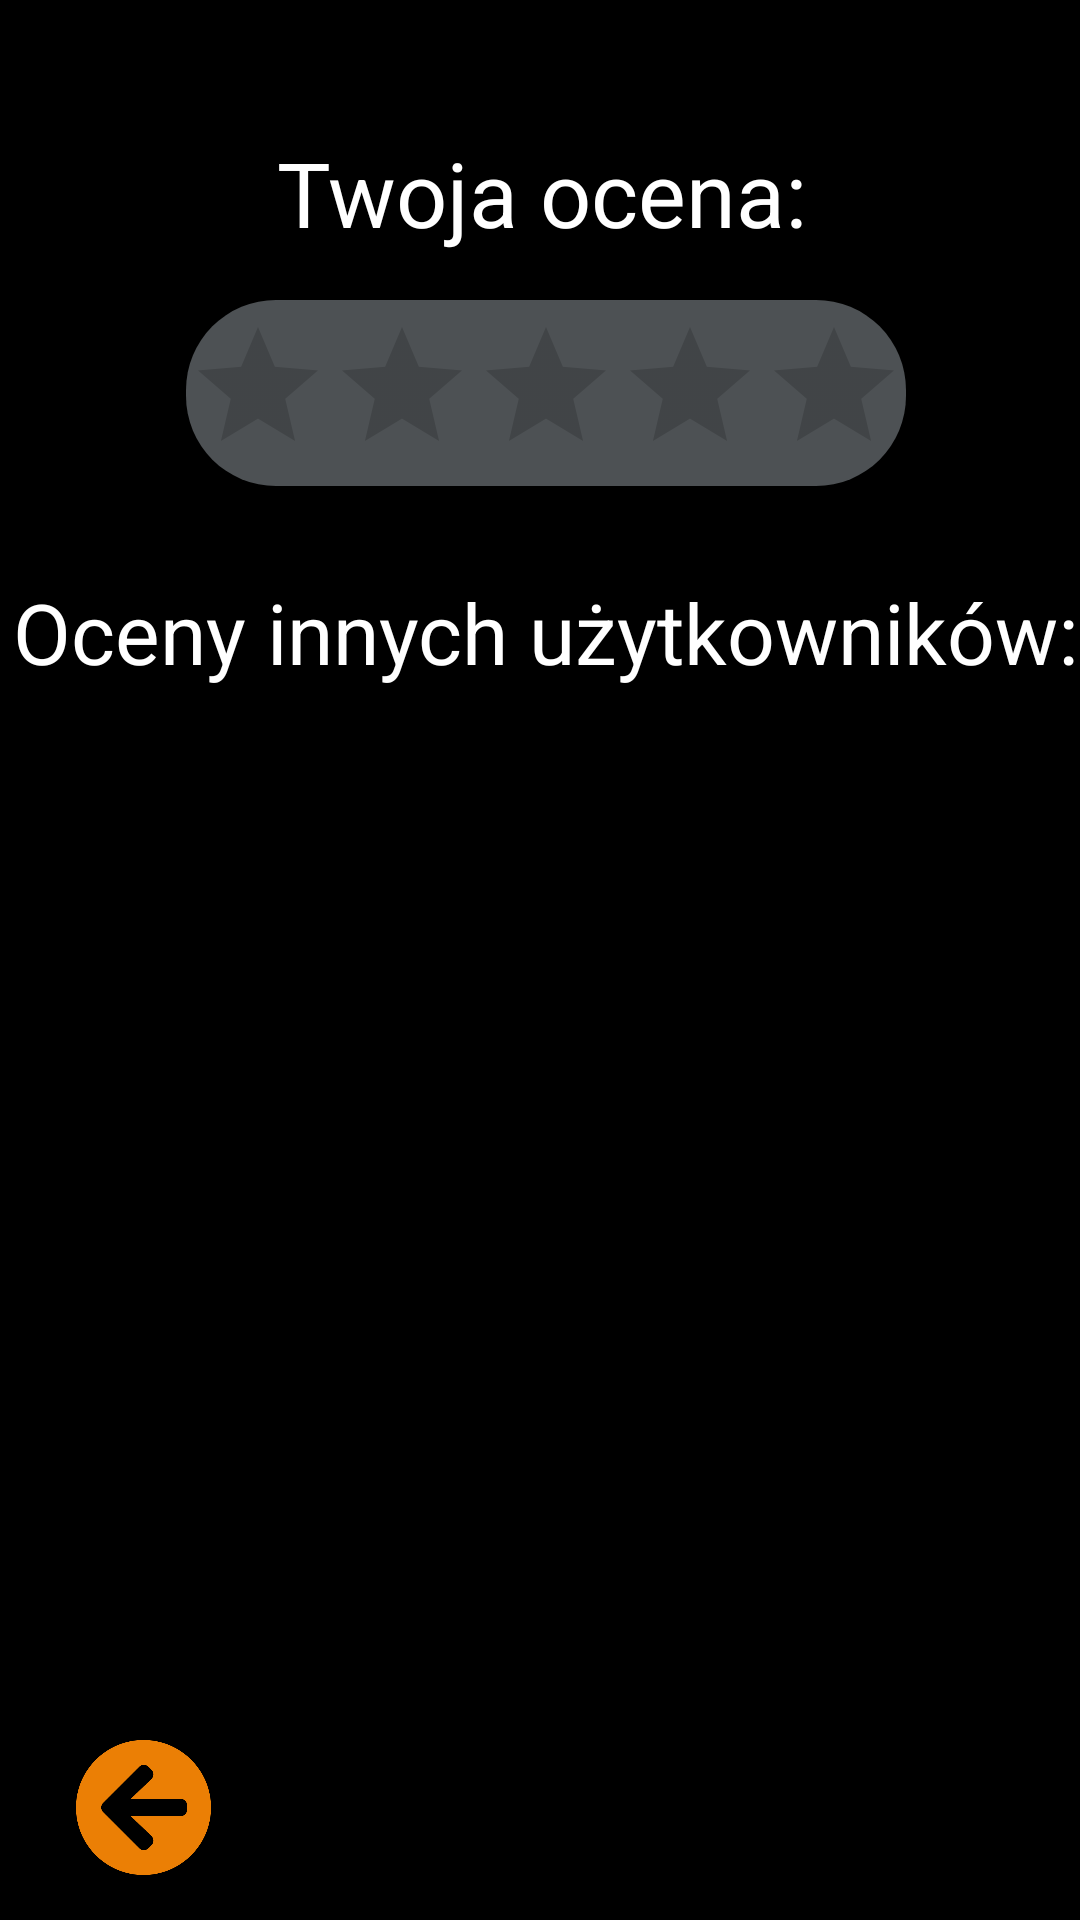

Icons on this 1080px x 1920px Android screen, each with the point to tap as (x,y):
back: (143,1807)
